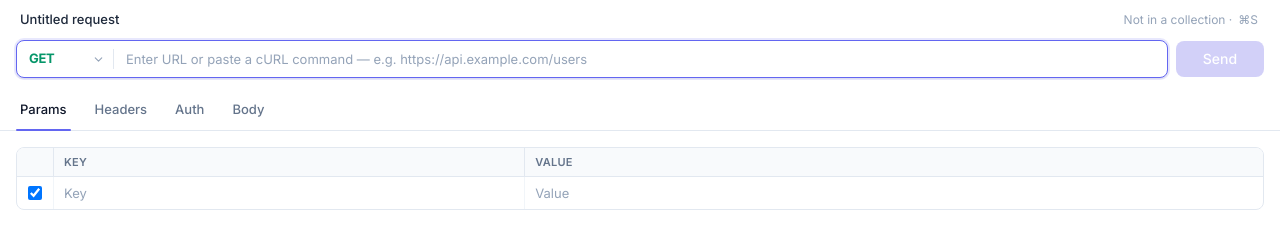
Test: RequestBuilder › switches between Params, Headers, and Body tabs
This screenshot has width=1280, height=227.
Check: the field with placeholder "Key" is shown, box [53, 177, 524, 209]
Click the tab "Headers" at (121, 110), box [83, 90, 159, 130]
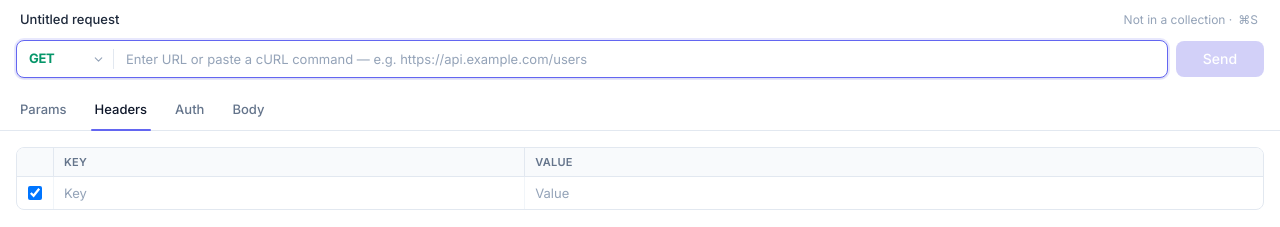
Check: the field with placeholder "Key" is shown, box [53, 177, 524, 209]
Click the tab "Body" at (248, 110), box [220, 90, 276, 130]
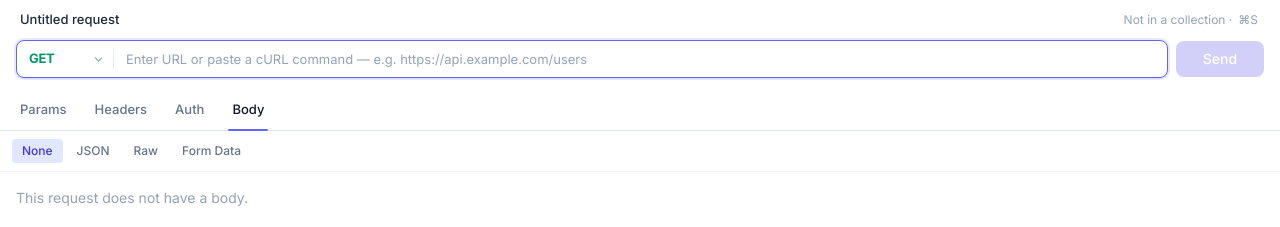
Check: the button "None" is shown, box [12, 138, 63, 162]
Check: the text "This request does not have a body." is shown, box [16, 188, 248, 206]
